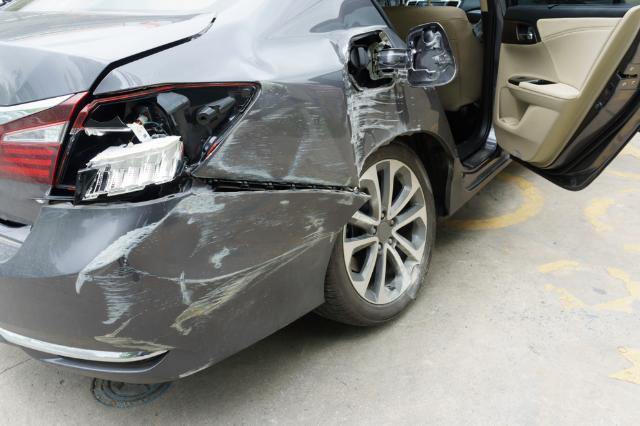Bumper: (68, 199, 316, 347)
Fender: (261, 78, 411, 174)
Light: (47, 93, 220, 210)
